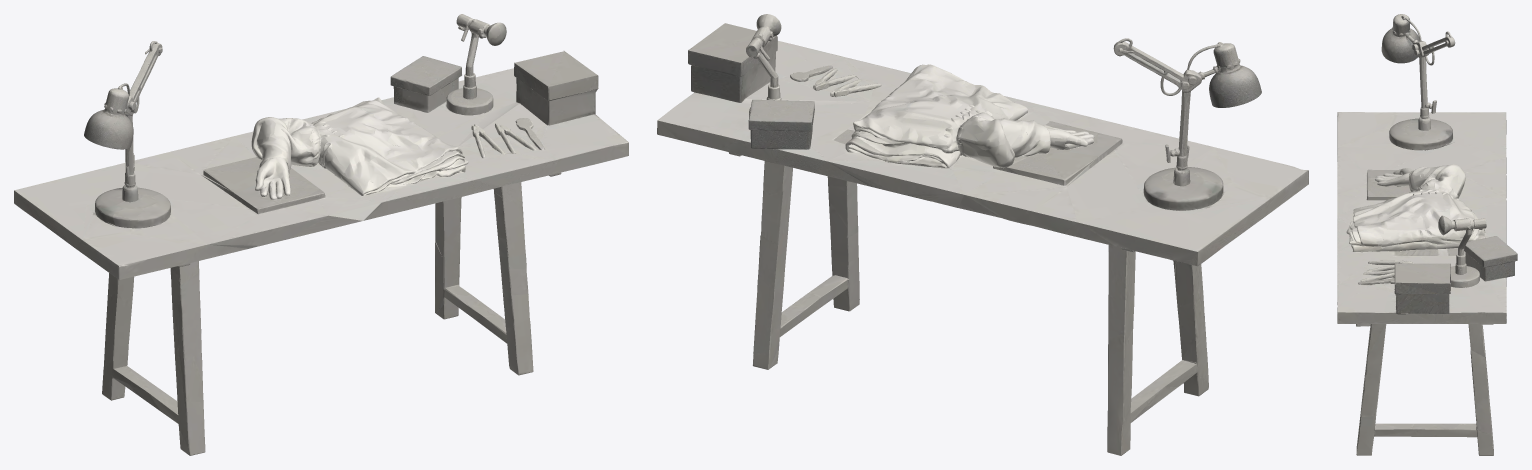
File: restorationTable.glb
3 views of the same model, side by side, from view 1: azimuth 30°, elevation 25°; view 2: azimuth 150°, elevation 25°; view 3: azimuth 270°, elevation 25° (orthographic). The views are drawn at different scales.
Bounding box in the file's own units: 1.9 × 1.3 × 0.7162.
Materials: 1 (1 with a texture image).
